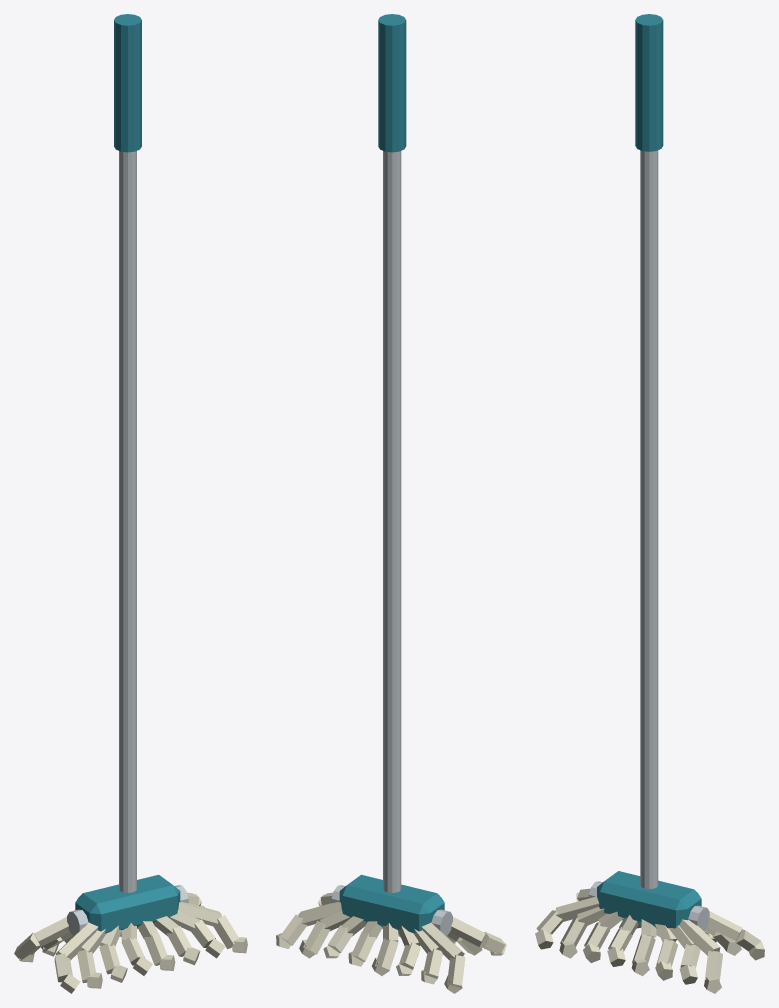
Rendered from 09_mop.glb.
3 renders of one model, left to right at view 1: azimuth 30°, elevation 25°; view 2: azimuth 150°, elevation 25°; view 3: azimuth 330°, elevation 25°, orthographic.
Parts seen in each view (by area): view 1: 02_mop; view 2: 02_mop; view 3: 02_mop.
Boxes of the visible parts, <box> form: 02_mop: <box>14,14,247,993</box>; 02_mop: <box>276,14,506,993</box>; 02_mop: <box>535,14,764,993</box>.
Size of the model in its own units: 0.3115 by 1.48 by 0.1564.
